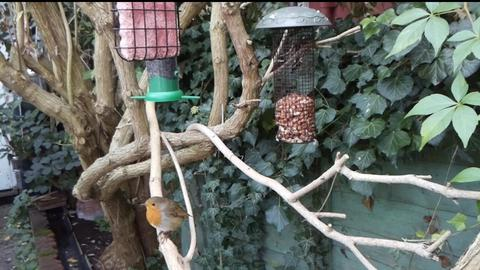robin: (140, 196, 194, 244)
